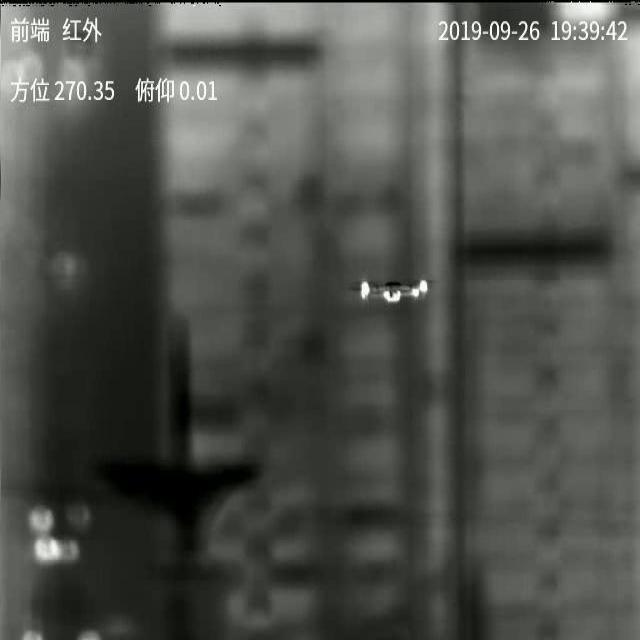drone: (351, 279, 434, 303)
